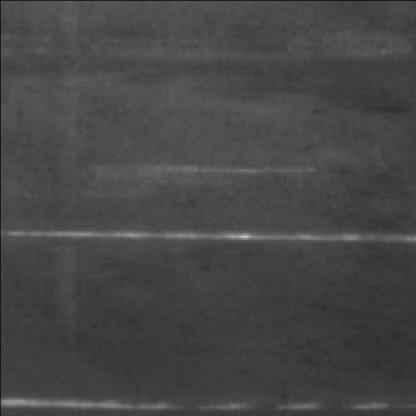scratches: (6, 223, 416, 254)
